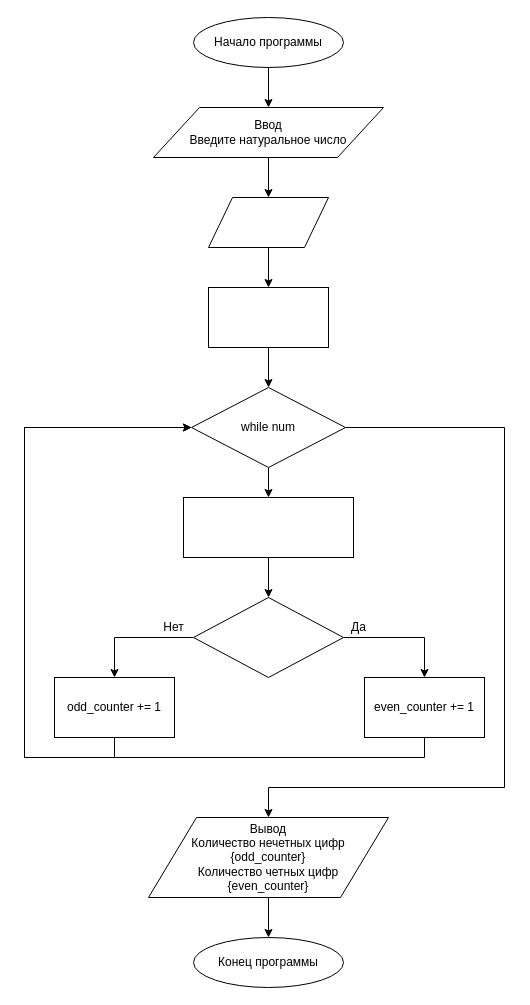
Some shapes in this 530 by 1005 pixel diagram are drawn without their labels. The shapes that lost their labels are listed below. From the top down, each one's box as (x1, y1, x2, y2) in pixels, then its label:
(208, 196, 328, 248): Ввод num
(208, 286, 328, 348): num = int(num) odd_counter = 0 even_counter = 0
(182, 496, 354, 558): temp_num = num % 10 num //= 10
(192, 596, 344, 678): if not temp_num % 2
